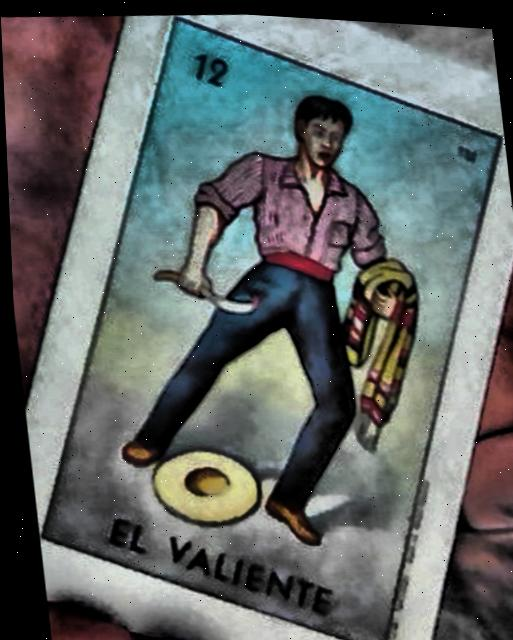El Borracho: (34, 18, 498, 640)
